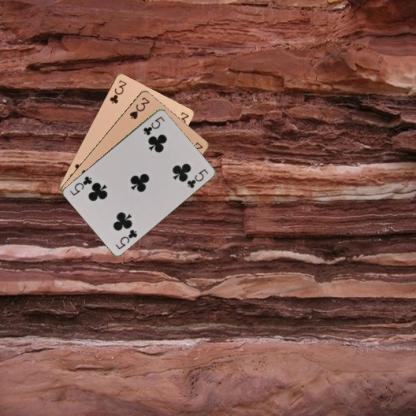3c: (107, 77, 128, 105)
3s: (127, 94, 151, 120)
5c: (140, 113, 166, 136), (112, 227, 138, 250)
